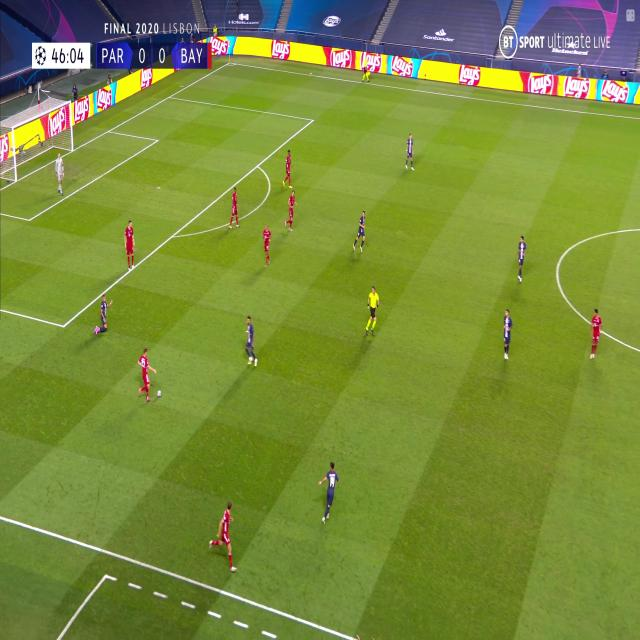ball: (156, 388, 162, 399)
player: (209, 501, 238, 574), (317, 460, 341, 523), (136, 348, 156, 402), (93, 294, 115, 336), (242, 315, 258, 369), (364, 286, 380, 338), (501, 308, 513, 362), (352, 210, 367, 253), (590, 308, 602, 359), (284, 190, 298, 232), (516, 236, 528, 283), (125, 219, 135, 273), (228, 188, 240, 230), (282, 150, 294, 188), (262, 224, 272, 269), (55, 152, 65, 196), (406, 132, 414, 172), (361, 55, 370, 83)
